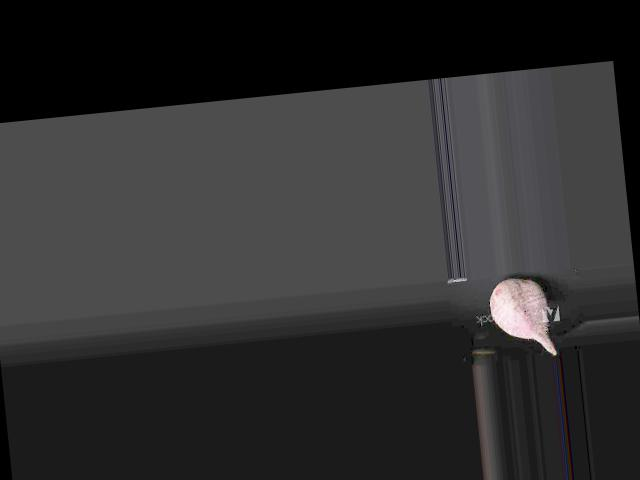beet: (486, 275, 555, 360)
